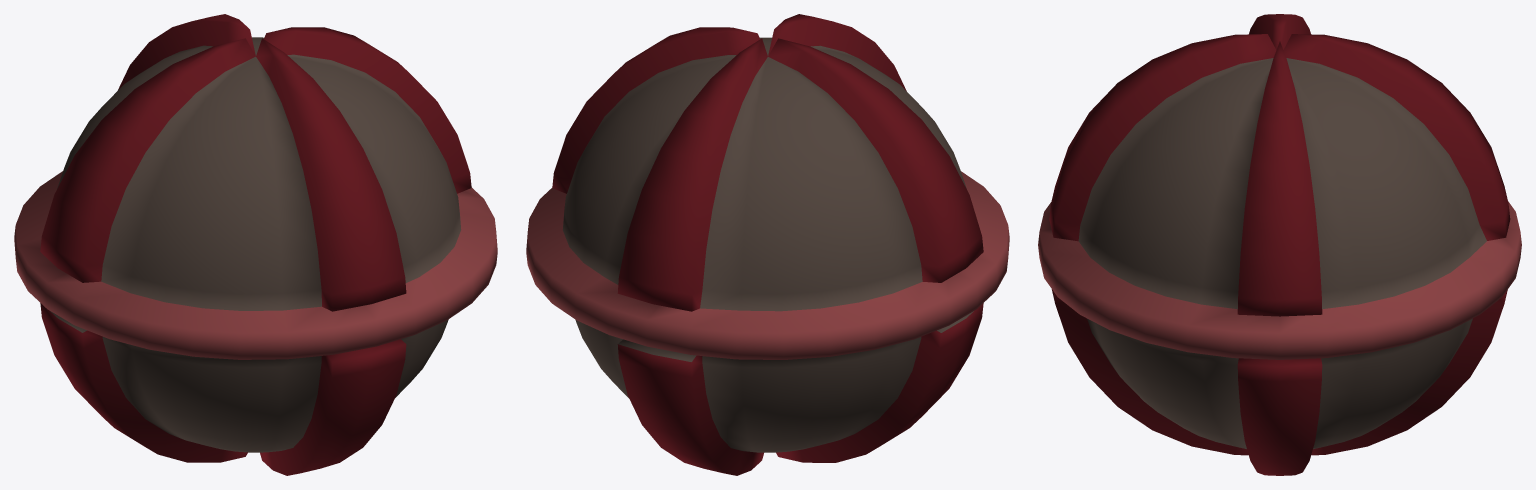
The model's file is TaddBombSphere.fbx.
3 views of the same model, side by side, from view 1: azimuth 30°, elevation 25°; view 2: azimuth 150°, elevation 25°; view 3: azimuth 270°, elevation 25° (orthographic).
Parts seen in each view (by area): view 1: Sphere.001; view 2: Sphere.001; view 3: Sphere.001.
Boxes of the visible parts, x1=… form: Sphere.001: x1=14, y1=14, x2=497, y2=475; Sphere.001: x1=526, y1=14, x2=1009, y2=475; Sphere.001: x1=1038, y1=14, x2=1521, y2=475.
Bounding box in the file's own units: 233 × 224 × 233.
